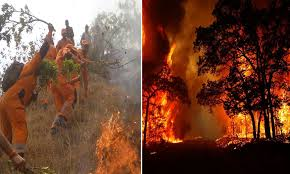fire: (141, 33, 187, 150), (218, 84, 290, 147), (93, 106, 140, 174)
smoke: (175, 12, 203, 72), (114, 44, 137, 97)
